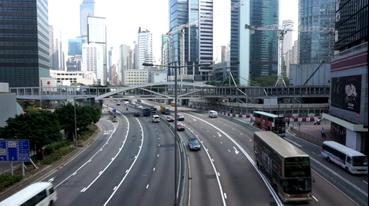bus: (245, 120, 335, 206), (0, 174, 69, 206), (315, 135, 369, 175), (248, 108, 288, 140)
car: (183, 134, 208, 157), (173, 121, 186, 134)
